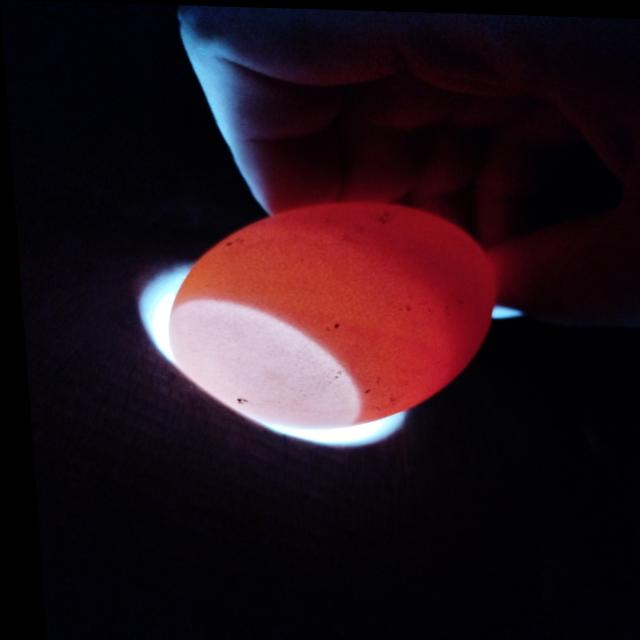Camara de Ar: (164, 296, 359, 430)
Gema Quebrada: (269, 198, 493, 343)
